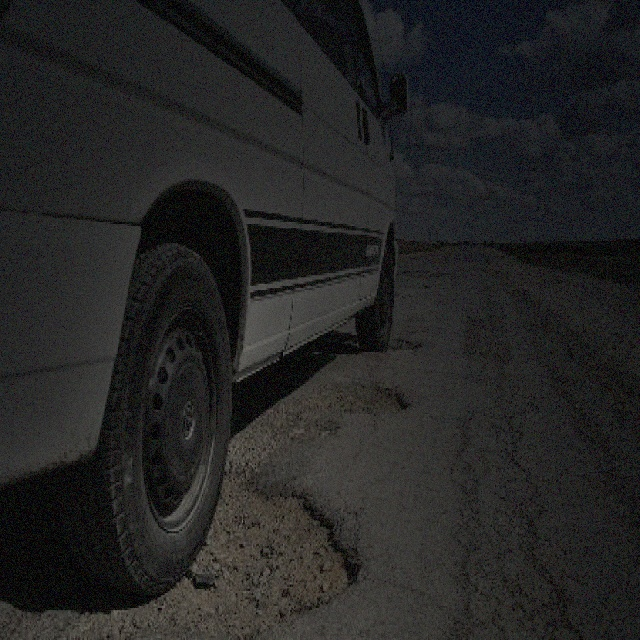pothole: (164, 465, 366, 634), (303, 376, 410, 418), (384, 333, 422, 352)
